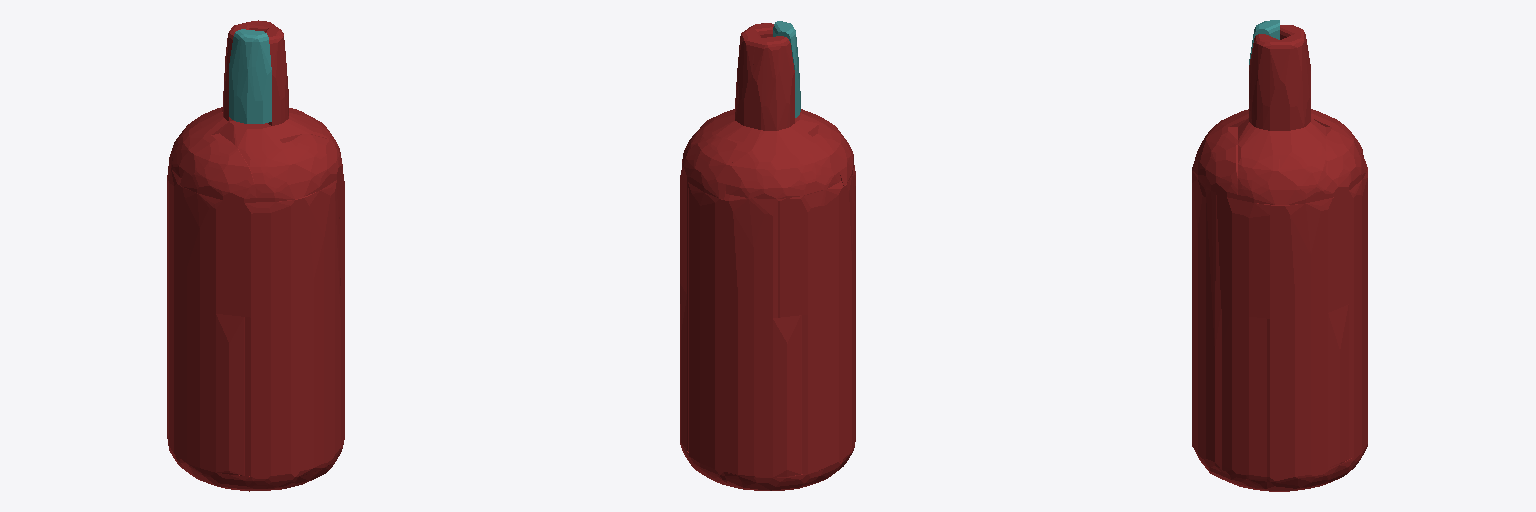
URDF robot description (root):
<robot name="root">
  <link name="bottle_body">
    <inertial>
      <origin xyz="0 0 0" rpy="0 0 0"/>
    </inertial>
    <mass value="1.00E-02"/>
    <visual>
      <origin xyz="0 0 0" rpy="0 0 0"/>
      <geometry>
        <mesh filename="core-bottle-84bc4006535545fad2986c98896facaa-coacd_convex_piece_3.obj" scale="1.0000E-01 1.0000E-01 1.0000E-01"/>
      </geometry>
      <material name="">
        <color rgba="6.00E-01 2.00E-01 2.00E-01 1"/>
      </material>
    </visual>
    <collision>
      <origin xyz="0 0 0" rpy="0 0 0"/>
      <geometry>
        <mesh filename="core-bottle-84bc4006535545fad2986c98896facaa-coacd_convex_piece_3.obj" scale="1.0000E-01 1.0000E-01 1.0000E-01"/>
      </geometry>
    </collision>
    <visual>
      <origin xyz="0 0 0" rpy="0 0 0"/>
      <geometry>
        <mesh filename="core-bottle-84bc4006535545fad2986c98896facaa-coacd_convex_piece_26.obj" scale="1.0000E-01 1.0000E-01 1.0000E-01"/>
      </geometry>
      <material name="">
        <color rgba="6.00E-01 2.00E-01 2.00E-01 1"/>
      </material>
    </visual>
    <collision>
      <origin xyz="0 0 0" rpy="0 0 0"/>
      <geometry>
        <mesh filename="core-bottle-84bc4006535545fad2986c98896facaa-coacd_convex_piece_26.obj" scale="1.0000E-01 1.0000E-01 1.0000E-01"/>
      </geometry>
    </collision>
    <visual>
      <origin xyz="0 0 0" rpy="0 0 0"/>
      <geometry>
        <mesh filename="core-bottle-84bc4006535545fad2986c98896facaa-coacd_convex_piece_17.obj" scale="1.0000E-01 1.0000E-01 1.0000E-01"/>
      </geometry>
      <material name="">
        <color rgba="6.00E-01 2.00E-01 2.00E-01 1"/>
      </material>
    </visual>
    <collision>
      <origin xyz="0 0 0" rpy="0 0 0"/>
      <geometry>
        <mesh filename="core-bottle-84bc4006535545fad2986c98896facaa-coacd_convex_piece_17.obj" scale="1.0000E-01 1.0000E-01 1.0000E-01"/>
      </geometry>
    </collision>
    <visual>
      <origin xyz="0 0 0" rpy="0 0 0"/>
      <geometry>
        <mesh filename="core-bottle-84bc4006535545fad2986c98896facaa-coacd_convex_piece_2.obj" scale="1.0000E-01 1.0000E-01 1.0000E-01"/>
      </geometry>
      <material name="">
        <color rgba="6.00E-01 2.00E-01 2.00E-01 1"/>
      </material>
    </visual>
    <collision>
      <origin xyz="0 0 0" rpy="0 0 0"/>
      <geometry>
        <mesh filename="core-bottle-84bc4006535545fad2986c98896facaa-coacd_convex_piece_2.obj" scale="1.0000E-01 1.0000E-01 1.0000E-01"/>
      </geometry>
    </collision>
    <visual>
      <origin xyz="0 0 0" rpy="0 0 0"/>
      <geometry>
        <mesh filename="core-bottle-84bc4006535545fad2986c98896facaa-coacd_convex_piece_21.obj" scale="1.0000E-01 1.0000E-01 1.0000E-01"/>
      </geometry>
      <material name="">
        <color rgba="6.00E-01 2.00E-01 2.00E-01 1"/>
      </material>
    </visual>
    <collision>
      <origin xyz="0 0 0" rpy="0 0 0"/>
      <geometry>
        <mesh filename="core-bottle-84bc4006535545fad2986c98896facaa-coacd_convex_piece_21.obj" scale="1.0000E-01 1.0000E-01 1.0000E-01"/>
      </geometry>
    </collision>
    <visual>
      <origin xyz="0 0 0" rpy="0 0 0"/>
      <geometry>
        <mesh filename="core-bottle-84bc4006535545fad2986c98896facaa-coacd_convex_piece_4.obj" scale="1.0000E-01 1.0000E-01 1.0000E-01"/>
      </geometry>
      <material name="">
        <color rgba="6.00E-01 2.00E-01 2.00E-01 1"/>
      </material>
    </visual>
    <collision>
      <origin xyz="0 0 0" rpy="0 0 0"/>
      <geometry>
        <mesh filename="core-bottle-84bc4006535545fad2986c98896facaa-coacd_convex_piece_4.obj" scale="1.0000E-01 1.0000E-01 1.0000E-01"/>
      </geometry>
    </collision>
    <visual>
      <origin xyz="0 0 0" rpy="0 0 0"/>
      <geometry>
        <mesh filename="core-bottle-84bc4006535545fad2986c98896facaa-coacd_convex_piece_27.obj" scale="1.0000E-01 1.0000E-01 1.0000E-01"/>
      </geometry>
      <material name="">
        <color rgba="6.00E-01 2.00E-01 2.00E-01 1"/>
      </material>
    </visual>
    <collision>
      <origin xyz="0 0 0" rpy="0 0 0"/>
      <geometry>
        <mesh filename="core-bottle-84bc4006535545fad2986c98896facaa-coacd_convex_piece_27.obj" scale="1.0000E-01 1.0000E-01 1.0000E-01"/>
      </geometry>
    </collision>
    <visual>
      <origin xyz="0 0 0" rpy="0 0 0"/>
      <geometry>
        <mesh filename="core-bottle-84bc4006535545fad2986c98896facaa-coacd_convex_piece_8.obj" scale="1.0000E-01 1.0000E-01 1.0000E-01"/>
      </geometry>
      <material name="">
        <color rgba="6.00E-01 2.00E-01 2.00E-01 1"/>
      </material>
    </visual>
    <collision>
      <origin xyz="0 0 0" rpy="0 0 0"/>
      <geometry>
        <mesh filename="core-bottle-84bc4006535545fad2986c98896facaa-coacd_convex_piece_8.obj" scale="1.0000E-01 1.0000E-01 1.0000E-01"/>
      </geometry>
    </collision>
    <visual>
      <origin xyz="0 0 0" rpy="0 0 0"/>
      <geometry>
        <mesh filename="core-bottle-84bc4006535545fad2986c98896facaa-coacd_convex_piece_6.obj" scale="1.0000E-01 1.0000E-01 1.0000E-01"/>
      </geometry>
      <material name="">
        <color rgba="6.00E-01 2.00E-01 2.00E-01 1"/>
      </material>
    </visual>
    <collision>
      <origin xyz="0 0 0" rpy="0 0 0"/>
      <geometry>
        <mesh filename="core-bottle-84bc4006535545fad2986c98896facaa-coacd_convex_piece_6.obj" scale="1.0000E-01 1.0000E-01 1.0000E-01"/>
      </geometry>
    </collision>
    <visual>
      <origin xyz="0 0 0" rpy="0 0 0"/>
      <geometry>
        <mesh filename="core-bottle-84bc4006535545fad2986c98896facaa-coacd_convex_piece_1.obj" scale="1.0000E-01 1.0000E-01 1.0000E-01"/>
      </geometry>
      <material name="">
        <color rgba="6.00E-01 2.00E-01 2.00E-01 1"/>
      </material>
    </visual>
    <collision>
      <origin xyz="0 0 0" rpy="0 0 0"/>
      <geometry>
        <mesh filename="core-bottle-84bc4006535545fad2986c98896facaa-coacd_convex_piece_1.obj" scale="1.0000E-01 1.0000E-01 1.0000E-01"/>
      </geometry>
    </collision>
    <visual>
      <origin xyz="0 0 0" rpy="0 0 0"/>
      <geometry>
        <mesh filename="core-bottle-84bc4006535545fad2986c98896facaa-coacd_convex_piece_0.obj" scale="1.0000E-01 1.0000E-01 1.0000E-01"/>
      </geometry>
      <material name="">
        <color rgba="6.00E-01 2.00E-01 2.00E-01 1"/>
      </material>
    </visual>
    <collision>
      <origin xyz="0 0 0" rpy="0 0 0"/>
      <geometry>
        <mesh filename="core-bottle-84bc4006535545fad2986c98896facaa-coacd_convex_piece_0.obj" scale="1.0000E-01 1.0000E-01 1.0000E-01"/>
      </geometry>
    </collision>
    <visual>
      <origin xyz="0 0 0" rpy="0 0 0"/>
      <geometry>
        <mesh filename="core-bottle-84bc4006535545fad2986c98896facaa-coacd_convex_piece_14.obj" scale="1.0000E-01 1.0000E-01 1.0000E-01"/>
      </geometry>
      <material name="">
        <color rgba="6.00E-01 2.00E-01 2.00E-01 1"/>
      </material>
    </visual>
    <collision>
      <origin xyz="0 0 0" rpy="0 0 0"/>
      <geometry>
        <mesh filename="core-bottle-84bc4006535545fad2986c98896facaa-coacd_convex_piece_14.obj" scale="1.0000E-01 1.0000E-01 1.0000E-01"/>
      </geometry>
    </collision>
    <visual>
      <origin xyz="0 0 0" rpy="0 0 0"/>
      <geometry>
        <mesh filename="core-bottle-84bc4006535545fad2986c98896facaa-coacd_convex_piece_12.obj" scale="1.0000E-01 1.0000E-01 1.0000E-01"/>
      </geometry>
      <material name="">
        <color rgba="6.00E-01 2.00E-01 2.00E-01 1"/>
      </material>
    </visual>
    <collision>
      <origin xyz="0 0 0" rpy="0 0 0"/>
      <geometry>
        <mesh filename="core-bottle-84bc4006535545fad2986c98896facaa-coacd_convex_piece_12.obj" scale="1.0000E-01 1.0000E-01 1.0000E-01"/>
      </geometry>
    </collision>
    <visual>
      <origin xyz="0 0 0" rpy="0 0 0"/>
      <geometry>
        <mesh filename="core-bottle-84bc4006535545fad2986c98896facaa-coacd_convex_piece_16.obj" scale="1.0000E-01 1.0000E-01 1.0000E-01"/>
      </geometry>
      <material name="">
        <color rgba="6.00E-01 2.00E-01 2.00E-01 1"/>
      </material>
    </visual>
    <collision>
      <origin xyz="0 0 0" rpy="0 0 0"/>
      <geometry>
        <mesh filename="core-bottle-84bc4006535545fad2986c98896facaa-coacd_convex_piece_16.obj" scale="1.0000E-01 1.0000E-01 1.0000E-01"/>
      </geometry>
    </collision>
    <visual>
      <origin xyz="0 0 0" rpy="0 0 0"/>
      <geometry>
        <mesh filename="core-bottle-84bc4006535545fad2986c98896facaa-coacd_convex_piece_10.obj" scale="1.0000E-01 1.0000E-01 1.0000E-01"/>
      </geometry>
      <material name="">
        <color rgba="6.00E-01 2.00E-01 2.00E-01 1"/>
      </material>
    </visual>
    <collision>
      <origin xyz="0 0 0" rpy="0 0 0"/>
      <geometry>
        <mesh filename="core-bottle-84bc4006535545fad2986c98896facaa-coacd_convex_piece_10.obj" scale="1.0000E-01 1.0000E-01 1.0000E-01"/>
      </geometry>
    </collision>
    <visual>
      <origin xyz="0 0 0" rpy="0 0 0"/>
      <geometry>
        <mesh filename="core-bottle-84bc4006535545fad2986c98896facaa-coacd_convex_piece_24.obj" scale="1.0000E-01 1.0000E-01 1.0000E-01"/>
      </geometry>
      <material name="">
        <color rgba="6.00E-01 2.00E-01 2.00E-01 1"/>
      </material>
    </visual>
    <collision>
      <origin xyz="0 0 0" rpy="0 0 0"/>
      <geometry>
        <mesh filename="core-bottle-84bc4006535545fad2986c98896facaa-coacd_convex_piece_24.obj" scale="1.0000E-01 1.0000E-01 1.0000E-01"/>
      </geometry>
    </collision>
    <visual>
      <origin xyz="0 0 0" rpy="0 0 0"/>
      <geometry>
        <mesh filename="core-bottle-84bc4006535545fad2986c98896facaa-coacd_convex_piece_13.obj" scale="1.0000E-01 1.0000E-01 1.0000E-01"/>
      </geometry>
      <material name="">
        <color rgba="6.00E-01 2.00E-01 2.00E-01 1"/>
      </material>
    </visual>
    <collision>
      <origin xyz="0 0 0" rpy="0 0 0"/>
      <geometry>
        <mesh filename="core-bottle-84bc4006535545fad2986c98896facaa-coacd_convex_piece_13.obj" scale="1.0000E-01 1.0000E-01 1.0000E-01"/>
      </geometry>
    </collision>
    <visual>
      <origin xyz="0 0 0" rpy="0 0 0"/>
      <geometry>
        <mesh filename="core-bottle-84bc4006535545fad2986c98896facaa-coacd_convex_piece_19.obj" scale="1.0000E-01 1.0000E-01 1.0000E-01"/>
      </geometry>
      <material name="">
        <color rgba="6.00E-01 2.00E-01 2.00E-01 1"/>
      </material>
    </visual>
    <collision>
      <origin xyz="0 0 0" rpy="0 0 0"/>
      <geometry>
        <mesh filename="core-bottle-84bc4006535545fad2986c98896facaa-coacd_convex_piece_19.obj" scale="1.0000E-01 1.0000E-01 1.0000E-01"/>
      </geometry>
    </collision>
    <visual>
      <origin xyz="0 0 0" rpy="0 0 0"/>
      <geometry>
        <mesh filename="core-bottle-84bc4006535545fad2986c98896facaa-coacd_convex_piece_5.obj" scale="1.0000E-01 1.0000E-01 1.0000E-01"/>
      </geometry>
      <material name="">
        <color rgba="6.00E-01 2.00E-01 2.00E-01 1"/>
      </material>
    </visual>
    <collision>
      <origin xyz="0 0 0" rpy="0 0 0"/>
      <geometry>
        <mesh filename="core-bottle-84bc4006535545fad2986c98896facaa-coacd_convex_piece_5.obj" scale="1.0000E-01 1.0000E-01 1.0000E-01"/>
      </geometry>
    </collision>
    <visual>
      <origin xyz="0 0 0" rpy="0 0 0"/>
      <geometry>
        <mesh filename="core-bottle-84bc4006535545fad2986c98896facaa-coacd_convex_piece_25.obj" scale="1.0000E-01 1.0000E-01 1.0000E-01"/>
      </geometry>
      <material name="">
        <color rgba="6.00E-01 2.00E-01 2.00E-01 1"/>
      </material>
    </visual>
    <collision>
      <origin xyz="0 0 0" rpy="0 0 0"/>
      <geometry>
        <mesh filename="core-bottle-84bc4006535545fad2986c98896facaa-coacd_convex_piece_25.obj" scale="1.0000E-01 1.0000E-01 1.0000E-01"/>
      </geometry>
    </collision>
    <visual>
      <origin xyz="0 0 0" rpy="0 0 0"/>
      <geometry>
        <mesh filename="core-bottle-84bc4006535545fad2986c98896facaa-coacd_convex_piece_18.obj" scale="1.0000E-01 1.0000E-01 1.0000E-01"/>
      </geometry>
      <material name="">
        <color rgba="6.00E-01 2.00E-01 2.00E-01 1"/>
      </material>
    </visual>
    <collision>
      <origin xyz="0 0 0" rpy="0 0 0"/>
      <geometry>
        <mesh filename="core-bottle-84bc4006535545fad2986c98896facaa-coacd_convex_piece_18.obj" scale="1.0000E-01 1.0000E-01 1.0000E-01"/>
      </geometry>
    </collision>
    <visual>
      <origin xyz="0 0 0" rpy="0 0 0"/>
      <geometry>
        <mesh filename="core-bottle-84bc4006535545fad2986c98896facaa-coacd_convex_piece_9.obj" scale="1.0000E-01 1.0000E-01 1.0000E-01"/>
      </geometry>
      <material name="">
        <color rgba="6.00E-01 2.00E-01 2.00E-01 1"/>
      </material>
    </visual>
    <collision>
      <origin xyz="0 0 0" rpy="0 0 0"/>
      <geometry>
        <mesh filename="core-bottle-84bc4006535545fad2986c98896facaa-coacd_convex_piece_9.obj" scale="1.0000E-01 1.0000E-01 1.0000E-01"/>
      </geometry>
    </collision>
    <visual>
      <origin xyz="0 0 0" rpy="0 0 0"/>
      <geometry>
        <mesh filename="core-bottle-84bc4006535545fad2986c98896facaa-coacd_convex_piece_20.obj" scale="1.0000E-01 1.0000E-01 1.0000E-01"/>
      </geometry>
      <material name="">
        <color rgba="6.00E-01 2.00E-01 2.00E-01 1"/>
      </material>
    </visual>
    <collision>
      <origin xyz="0 0 0" rpy="0 0 0"/>
      <geometry>
        <mesh filename="core-bottle-84bc4006535545fad2986c98896facaa-coacd_convex_piece_20.obj" scale="1.0000E-01 1.0000E-01 1.0000E-01"/>
      </geometry>
    </collision>
    <visual>
      <origin xyz="0 0 0" rpy="0 0 0"/>
      <geometry>
        <mesh filename="core-bottle-84bc4006535545fad2986c98896facaa-coacd_convex_piece_15.obj" scale="1.0000E-01 1.0000E-01 1.0000E-01"/>
      </geometry>
      <material name="">
        <color rgba="6.00E-01 2.00E-01 2.00E-01 1"/>
      </material>
    </visual>
    <collision>
      <origin xyz="0 0 0" rpy="0 0 0"/>
      <geometry>
        <mesh filename="core-bottle-84bc4006535545fad2986c98896facaa-coacd_convex_piece_15.obj" scale="1.0000E-01 1.0000E-01 1.0000E-01"/>
      </geometry>
    </collision>
    <visual>
      <origin xyz="0 0 0" rpy="0 0 0"/>
      <geometry>
        <mesh filename="core-bottle-84bc4006535545fad2986c98896facaa-coacd_convex_piece_28.obj" scale="1.0000E-01 1.0000E-01 1.0000E-01"/>
      </geometry>
      <material name="">
        <color rgba="6.00E-01 2.00E-01 2.00E-01 1"/>
      </material>
    </visual>
    <collision>
      <origin xyz="0 0 0" rpy="0 0 0"/>
      <geometry>
        <mesh filename="core-bottle-84bc4006535545fad2986c98896facaa-coacd_convex_piece_28.obj" scale="1.0000E-01 1.0000E-01 1.0000E-01"/>
      </geometry>
    </collision>
    <visual>
      <origin xyz="0 0 0" rpy="0 0 0"/>
      <geometry>
        <mesh filename="core-bottle-84bc4006535545fad2986c98896facaa-coacd_convex_piece_23.obj" scale="1.0000E-01 1.0000E-01 1.0000E-01"/>
      </geometry>
      <material name="">
        <color rgba="6.00E-01 2.00E-01 2.00E-01 1"/>
      </material>
    </visual>
    <collision>
      <origin xyz="0 0 0" rpy="0 0 0"/>
      <geometry>
        <mesh filename="core-bottle-84bc4006535545fad2986c98896facaa-coacd_convex_piece_23.obj" scale="1.0000E-01 1.0000E-01 1.0000E-01"/>
      </geometry>
    </collision>
    <visual>
      <origin xyz="0 0 0" rpy="0 0 0"/>
      <geometry>
        <mesh filename="core-bottle-84bc4006535545fad2986c98896facaa-coacd_convex_piece_22.obj" scale="1.0000E-01 1.0000E-01 1.0000E-01"/>
      </geometry>
      <material name="">
        <color rgba="6.00E-01 2.00E-01 2.00E-01 1"/>
      </material>
    </visual>
    <collision>
      <origin xyz="0 0 0" rpy="0 0 0"/>
      <geometry>
        <mesh filename="core-bottle-84bc4006535545fad2986c98896facaa-coacd_convex_piece_22.obj" scale="1.0000E-01 1.0000E-01 1.0000E-01"/>
      </geometry>
    </collision>
    <visual>
      <origin xyz="0 0 0" rpy="0 0 0"/>
      <geometry>
        <mesh filename="core-bottle-84bc4006535545fad2986c98896facaa-coacd_convex_piece_11.obj" scale="1.0000E-01 1.0000E-01 1.0000E-01"/>
      </geometry>
      <material name="">
        <color rgba="6.00E-01 2.00E-01 2.00E-01 1"/>
      </material>
    </visual>
    <collision>
      <origin xyz="0 0 0" rpy="0 0 0"/>
      <geometry>
        <mesh filename="core-bottle-84bc4006535545fad2986c98896facaa-coacd_convex_piece_11.obj" scale="1.0000E-01 1.0000E-01 1.0000E-01"/>
      </geometry>
    </collision>
  </link>
  <link name="bottle_cap">
    <origin xyz="0 0 0.002" rpy="0 0 0"/>
    <mass value="1.00E-02"/>
    <visual>
      <origin xyz="0 0 0.002" rpy="0 0 0"/>
      <geometry>
        <mesh filename="core-bottle-84bc4006535545fad2986c98896facaa-coacd_convex_piece_7.obj" scale="1.0000E-01 1.0000E-01 1.0000E-01"/>
      </geometry>
      <material name="">
        <color rgba="3.00E-01 6.00E-01 6.00E-01 1"/>
      </material>
    </visual>
    <collision>
      <origin xyz="0 0 0.002" rpy="0 0 0"/>
      <geometry>
        <mesh filename="core-bottle-84bc4006535545fad2986c98896facaa-coacd_convex_piece_7.obj" scale="1.0000E-01 1.0000E-01 1.0000E-01"/>
      </geometry>
    </collision>
  </link>
  <joint name="bottle_cap_joint" type="revolute">
    <origin xyz="0 0 0" rpy="0 0 0"/>
    <parent link="bottle_body"/>
    <child link="bottle_cap"/>
    <axis xyz="0 0 1"/>
    <limit lower="0.00" upper="6.28"/>
    <dynamics damping="0.05"/>
  </joint>
</robot>

--- Facts derived from the render (not from the file) ---
3 views of the same robot in one strip: view 1: azimuth 30°, elevation 25°; view 2: azimuth 150°, elevation 25°; view 3: azimuth 270°, elevation 25° (orthographic).
Robot: root — 2 links, 1 joints (1 revolute); root link bottle_body; default pose: every joint at zero.
Links seen in each view (by area): view 1: bottle_body, bottle_cap; view 2: bottle_body, bottle_cap; view 3: bottle_body.
Boxes of the visible links, bbox=[...] form: bottle_body: bbox=[167, 20, 344, 491]; bottle_cap: bbox=[229, 29, 271, 123]; bottle_body: bbox=[680, 23, 855, 490]; bottle_cap: bbox=[773, 21, 800, 117]; bottle_body: bbox=[1192, 25, 1367, 491].
Bounding box of the posed robot: 0.0702 × 0.0702 × 0.1918 m (x, y, z).
Meshes: 29 distinct files referenced, 29 mesh visuals loaded (29 OBJ).